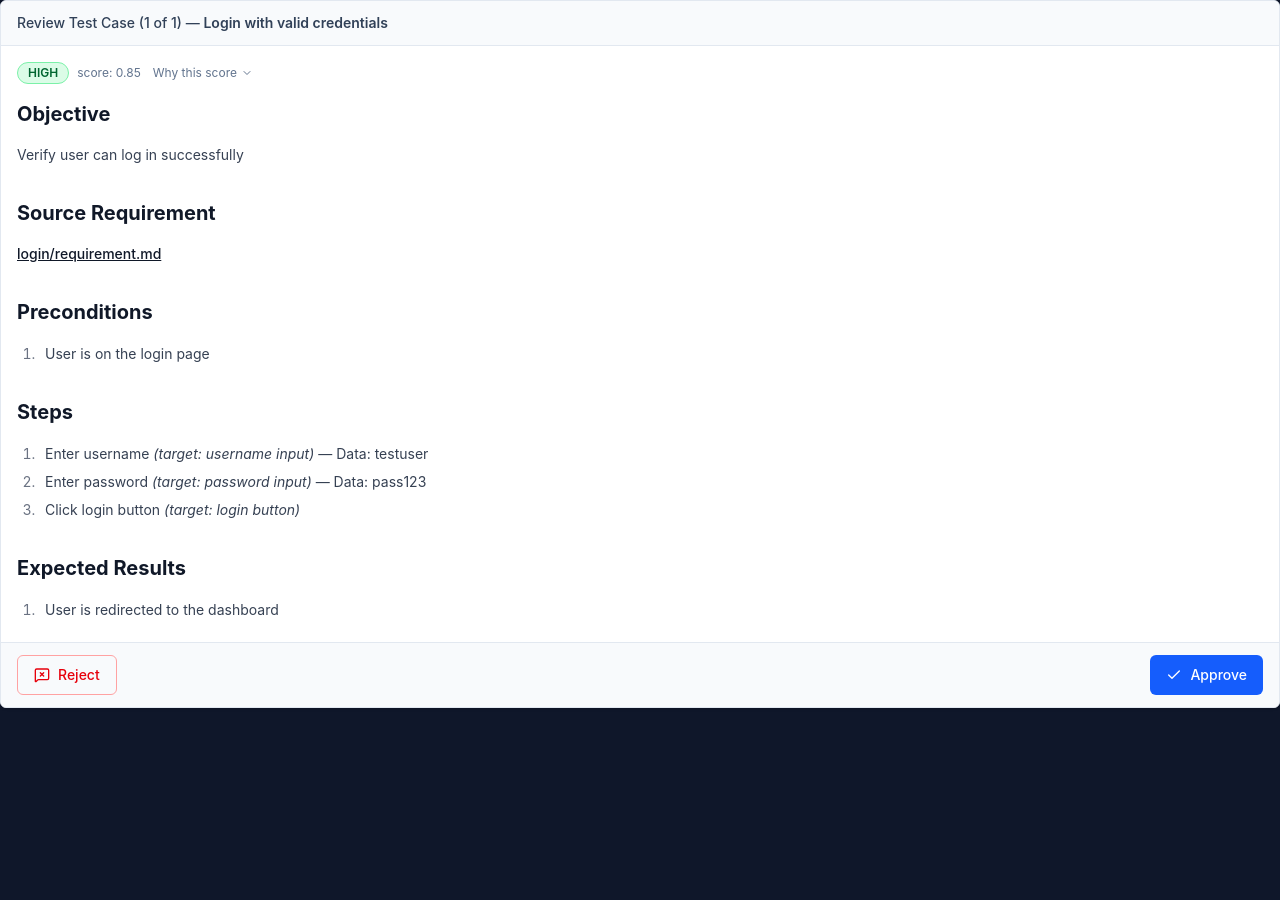
it: MaryReviewPanel › AC3 — Reject with feedback › shows feedback textarea when Reject is clicked
Click the button "Reject" at (67, 674), box [17,654,117,694]
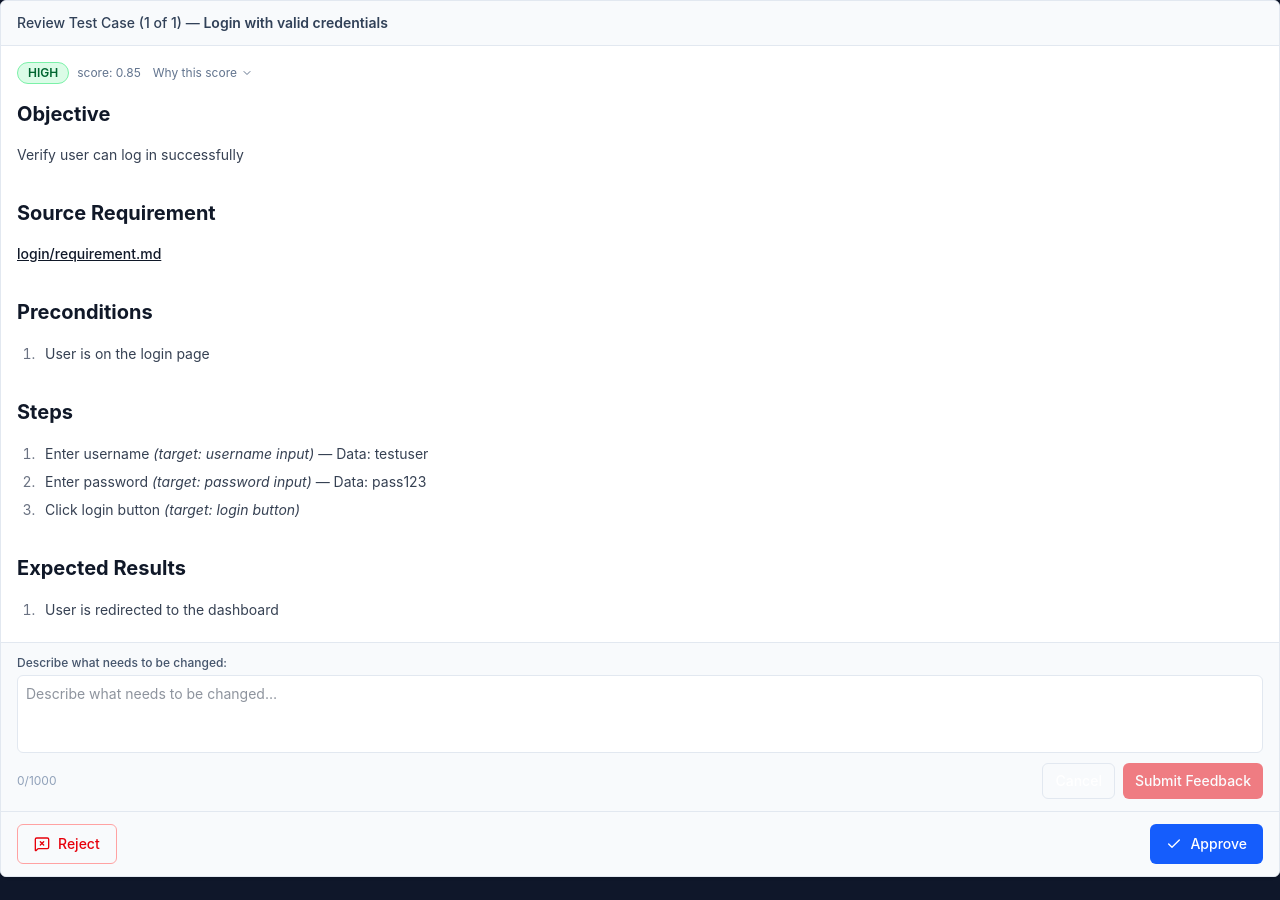
Check: the text box with placeholder "Describe what needs to be changed…" is shown, box [17,674,1263,752]
